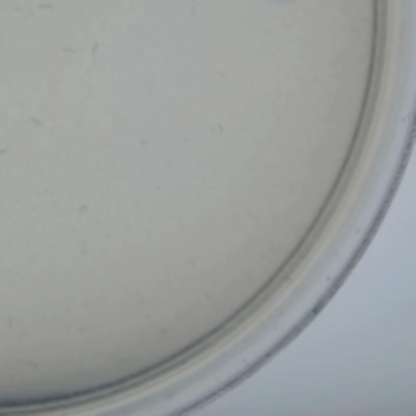worm: (207, 117, 238, 143), (72, 202, 102, 222), (86, 38, 109, 61), (21, 113, 51, 130), (33, 0, 52, 16), (58, 41, 77, 57), (0, 142, 13, 163), (5, 311, 18, 329)
